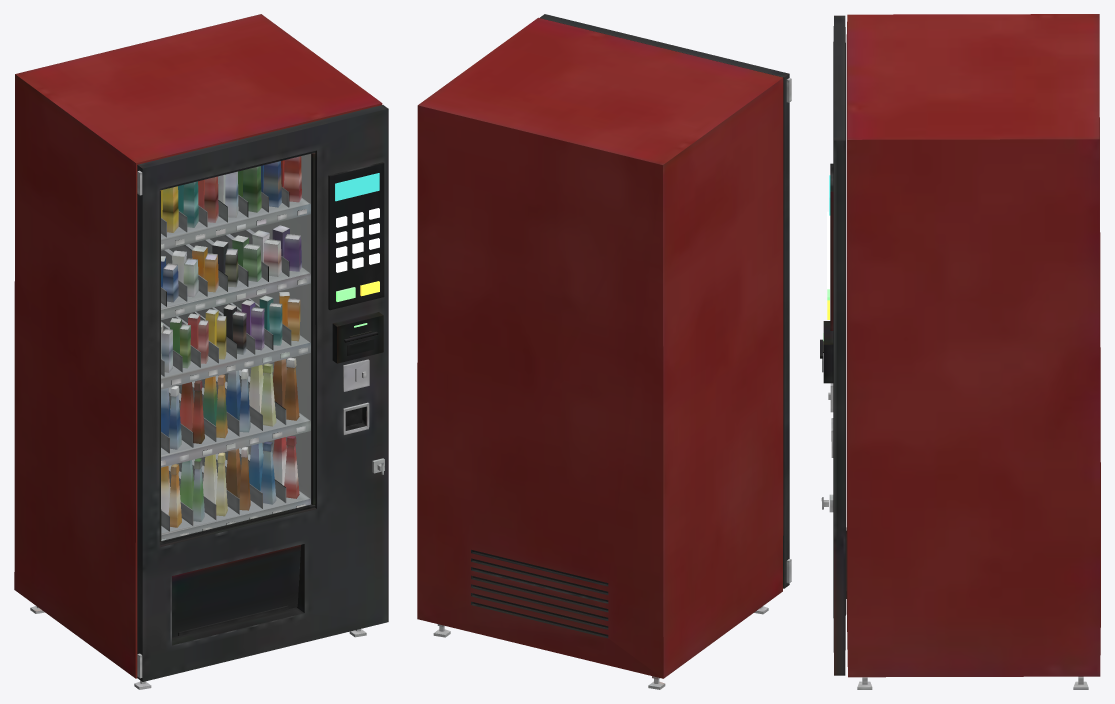
The model's file is vending.glb.
3 views of the same model, side by side, from view 1: azimuth 30°, elevation 25°; view 2: azimuth 150°, elevation 25°; view 3: azimuth 270°, elevation 25° (orthographic). The views are drawn at different scales.
Visible parts, largest first — view 1: vending-machine_body, vending-machine_goods, vending-machine_keypad_lamp, vending-machine_menu_display; view 2: vending-machine_body; view 3: vending-machine_body.
Part boxes in pixels (x1,y1,x2,y2): vending-machine_body: (14,14,388,689); vending-machine_goods: (160,156,310,540); vending-machine_keypad_lamp: (336,208,379,272); vending-machine_menu_display: (335,173,379,201); vending-machine_body: (417,14,791,689); vending-machine_body: (820,14,1100,689).
Size of the model in its own units: 0.8996 by 1.85 by 0.8448.
Materials: 8 (2 with a texture image).
